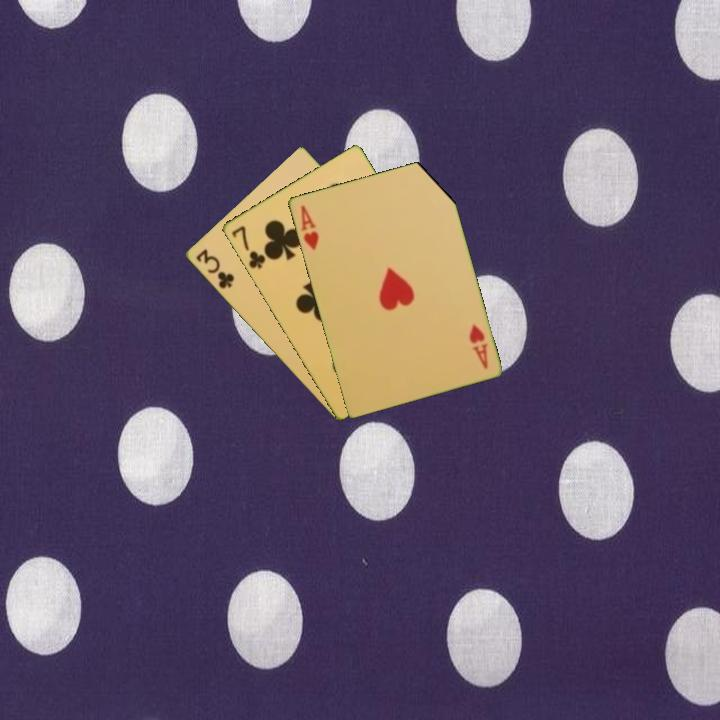3c: (192, 245, 237, 292)
7c: (227, 222, 268, 272)
Ah: (465, 321, 490, 372), (297, 201, 321, 253)
